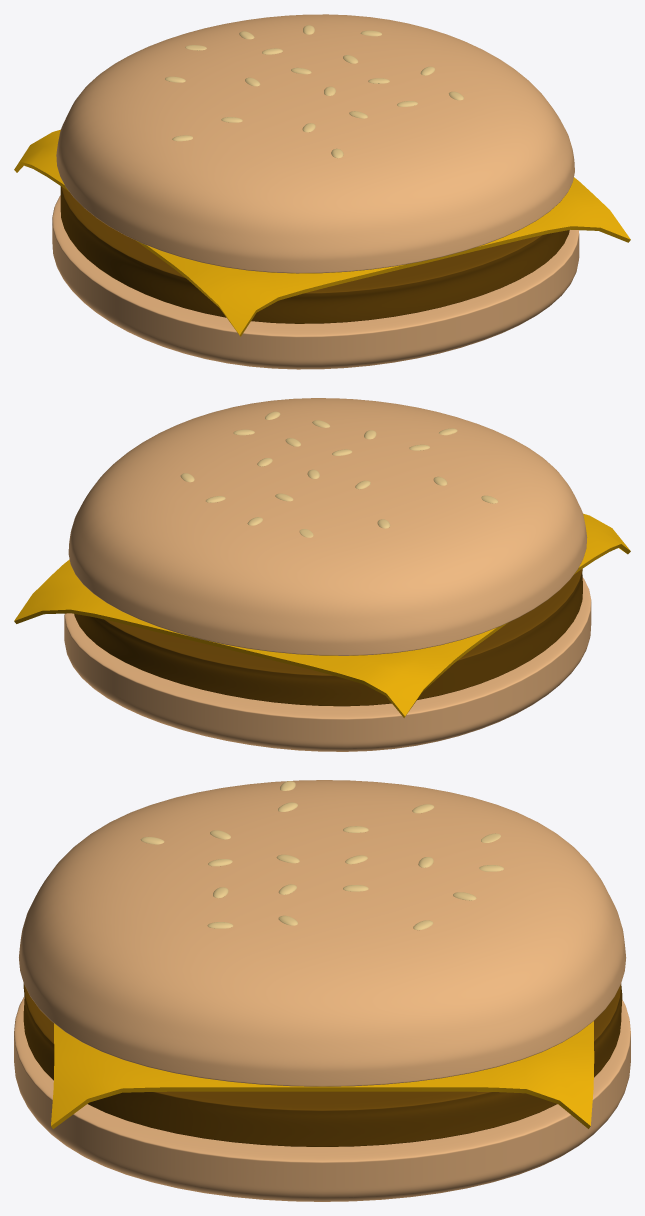
File: hamburger.glb
3 renders of one model, top to bottom at view 1: azimuth 30°, elevation 25°; view 2: azimuth 150°, elevation 25°; view 3: azimuth 270°, elevation 25°, orthographic. The views are drawn at different scales.
Visible parts, largest first — view 1: Top Bun, Bottom Bun, Meat, Cheese; view 2: Top Bun, Bottom Bun, Meat, Cheese; view 3: Top Bun, Bottom Bun, Meat, Cheese.
Part boxes in pixels (bbox=[...]): Top Bun: bbox=[56, 14, 574, 273]; Bottom Bun: bbox=[52, 195, 579, 369]; Meat: bbox=[60, 186, 569, 323]; Cheese: bbox=[14, 129, 630, 336]; Top Bun: bbox=[68, 398, 587, 655]; Bottom Bun: bbox=[64, 577, 591, 751]; Meat: bbox=[74, 569, 582, 706]; Cheese: bbox=[14, 513, 630, 717]; Top Bun: bbox=[19, 780, 626, 1086]; Bottom Bun: bbox=[14, 996, 630, 1201]; Meat: bbox=[23, 983, 622, 1146]; Cheese: bbox=[51, 1021, 594, 1128].
Bounding box in the file's own units: 9.12 × 3.95 × 9.12.
